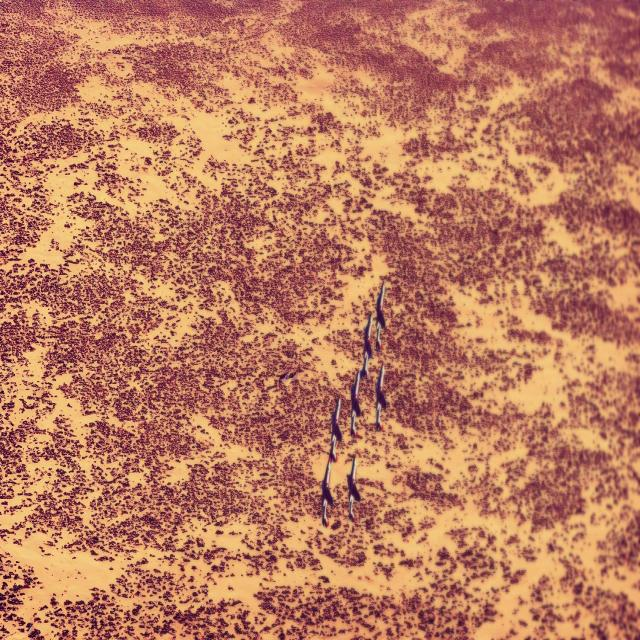airplane: (328, 393, 343, 464), (372, 358, 386, 433), (346, 453, 361, 520), (321, 455, 334, 529), (348, 372, 361, 435), (361, 313, 373, 380), (375, 280, 384, 348)
